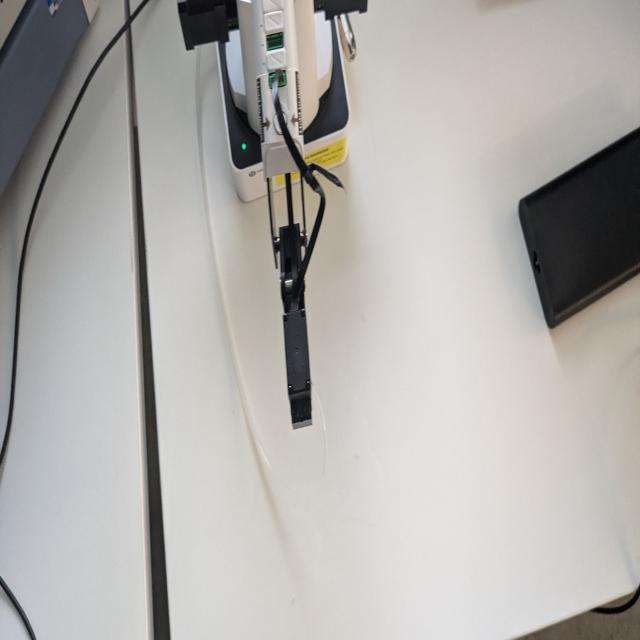Robot-end-effector-HF8z: (276, 303, 316, 442)
